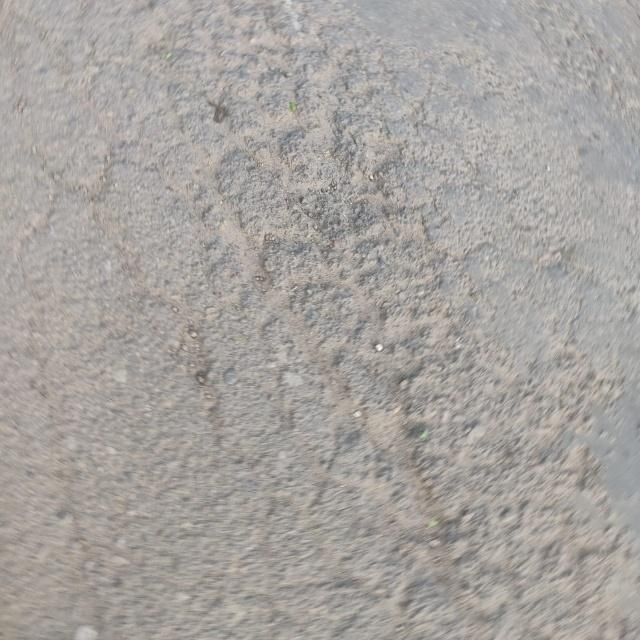Surface Erosion: (79, 12, 640, 640)
